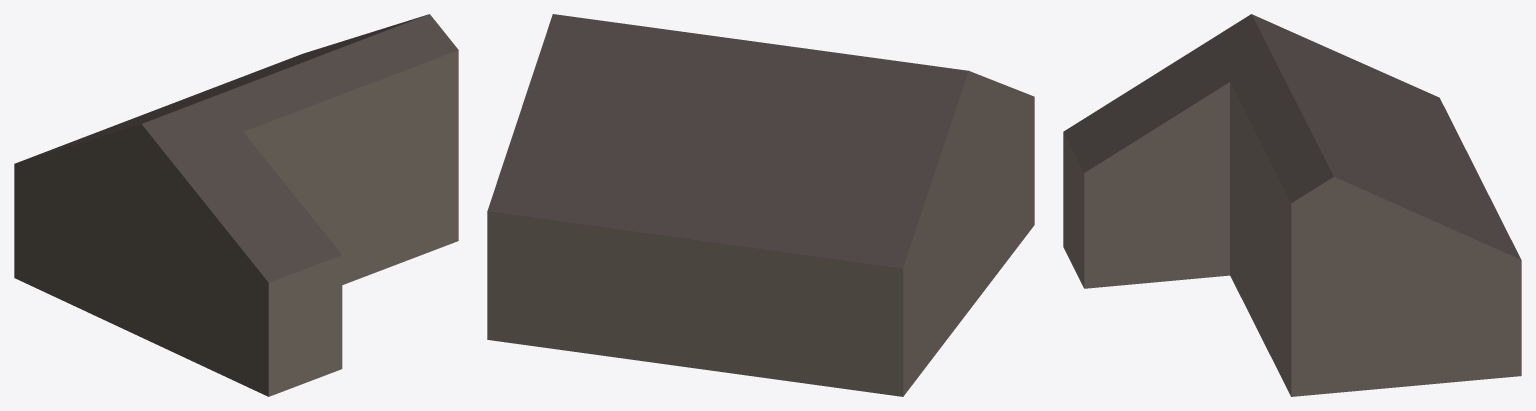
The picture shows the model from 3 angles, left to right: view 1: azimuth 30°, elevation 25°; view 2: azimuth 150°, elevation 25°; view 3: azimuth 270°, elevation 25°; orthographic projection. The views are drawn at different scales.
Visible parts, largest first — view 1: HP-w1376988860; view 2: HP-w1376988860; view 3: HP-w1376988860.
Part boxes in pixels (left/top/right/bottom): HP-w1376988860: left=14, top=14, right=458, bottom=396; HP-w1376988860: left=487, top=14, right=1034, bottom=396; HP-w1376988860: left=1063, top=14, right=1521, bottom=396.
Size of the model in its own units: 20.44 by 11.23 by 21.54.
